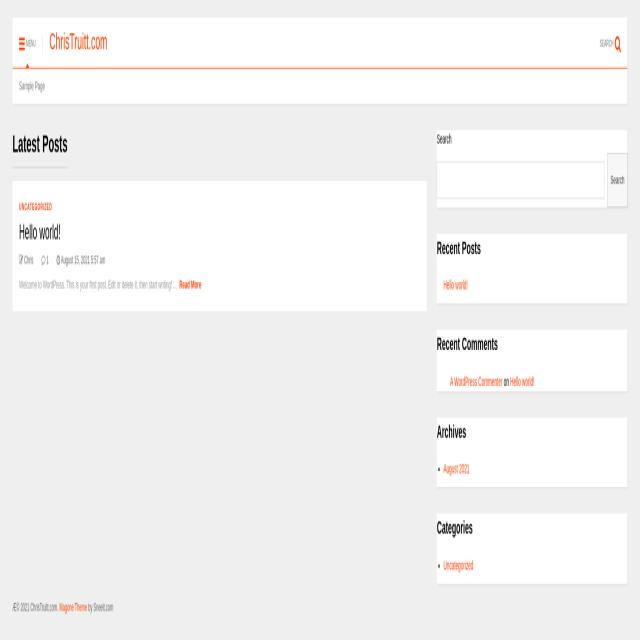button: (13, 69, 52, 104), (12, 21, 42, 66), (608, 153, 628, 208), (596, 22, 623, 58)
field: (438, 162, 604, 200)
